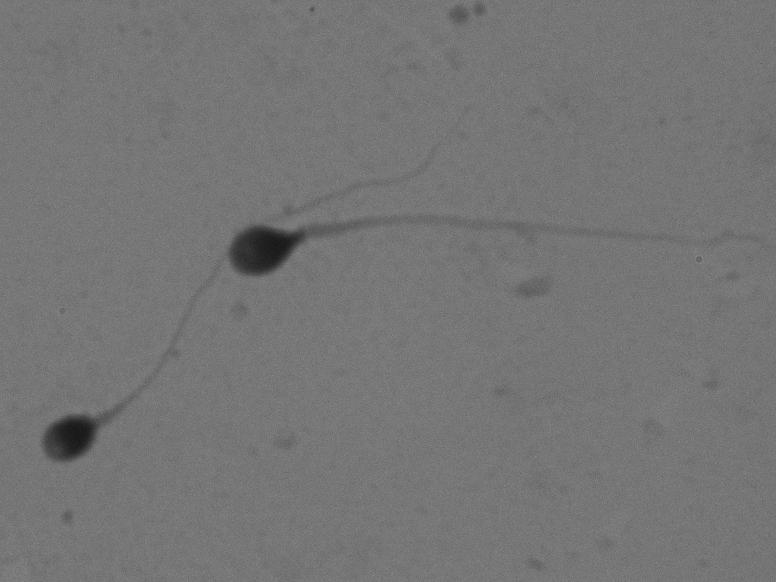Abnormal: (222, 185, 771, 304)
Normal: (17, 70, 510, 490)
